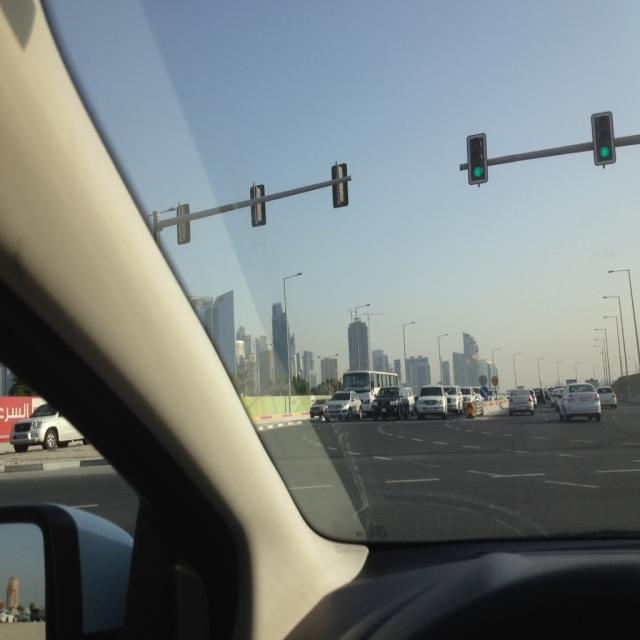car: (370, 385, 408, 419), (321, 390, 360, 418)
